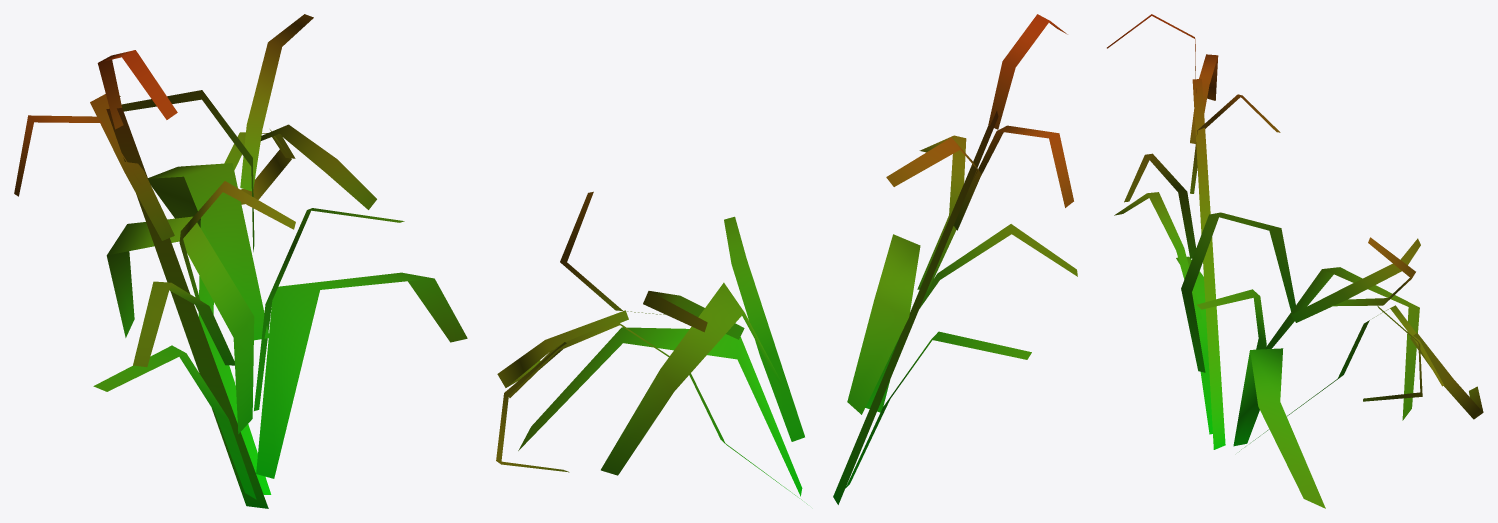
File: Great Brome_LOD4_Var4_tjugaikia.fbx
The picture shows the model from 3 angles, left to right: view 1: azimuth 30°, elevation 25°; view 2: azimuth 150°, elevation 25°; view 3: azimuth 270°, elevation 25°; orthographic projection. The views are drawn at different scales.
Visible parts, largest first — view 1: _3ae2_Var4_LOD4; view 2: _3ae2_Var4_LOD4; view 3: _3ae2_Var4_LOD4.
Part boxes in pixels (x1=…): _3ae2_Var4_LOD4: x1=14, y1=14, x2=467, y2=508; _3ae2_Var4_LOD4: x1=496, y1=14, x2=1077, y2=504; _3ae2_Var4_LOD4: x1=1107, y1=14, x2=1483, y2=508.
Size of the model in its own units: 24.98 by 24.6 by 22.48.
